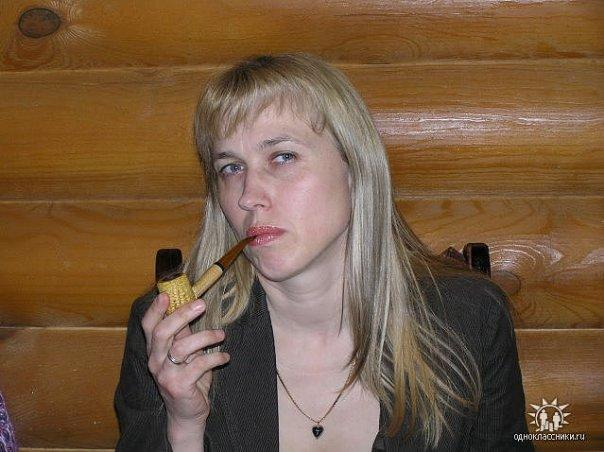trubka: (158, 235, 257, 317)
